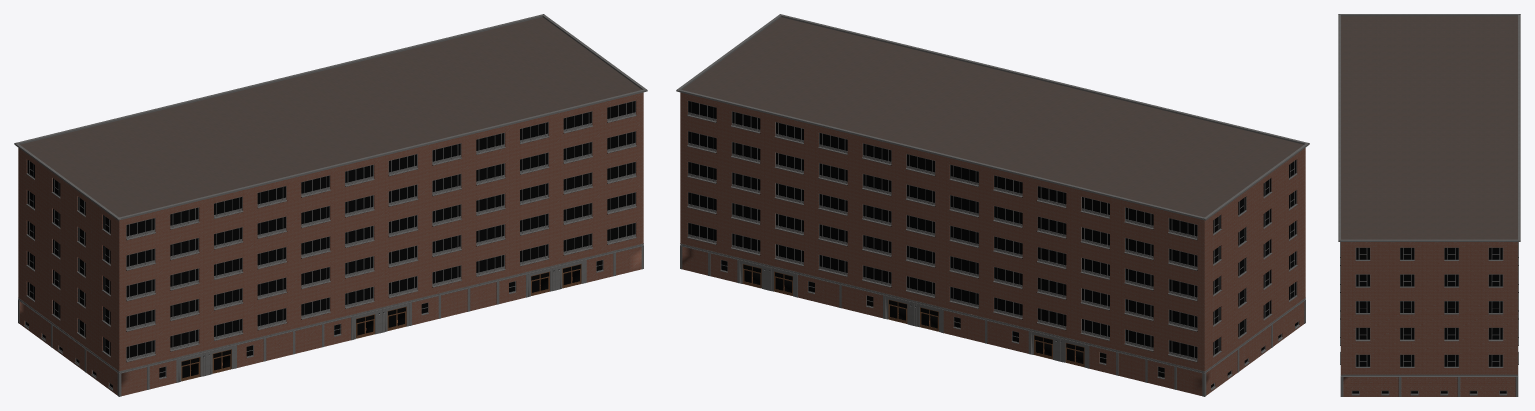
File: building_8.fbx
The picture shows the model from 3 angles, left to right: view 1: azimuth 30°, elevation 25°; view 2: azimuth 150°, elevation 25°; view 3: azimuth 270°, elevation 25°; orthographic projection. The views are drawn at different scales.
Visible parts, largest first — view 1: building_9_middle, building_9_roof, building_9_bottom; view 2: building_9_middle, building_9_roof, building_9_bottom; view 3: building_9_roof, building_9_middle, building_9_bottom.
Part boxes in pixels (box(x1,y1,x2,y2)): building_9_middle: box(18, 92, 643, 371); building_9_roof: box(14, 14, 647, 220); building_9_bottom: box(18, 243, 643, 396); building_9_middle: box(680, 92, 1305, 371); building_9_roof: box(676, 14, 1309, 220); building_9_bottom: box(680, 243, 1305, 396); building_9_roof: box(1338, 14, 1520, 241); building_9_middle: box(1340, 242, 1518, 374); building_9_bottom: box(1340, 346, 1518, 396).
Size of the model in its own units: 10900 by 3529 by 3700.
